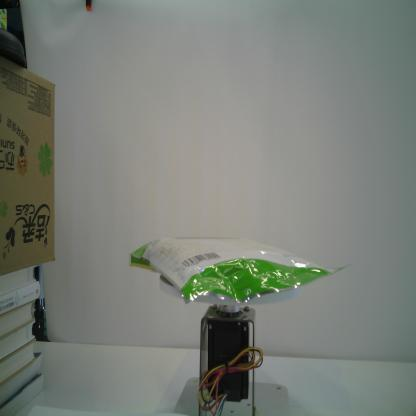Dried Food: (128, 233, 352, 308)
